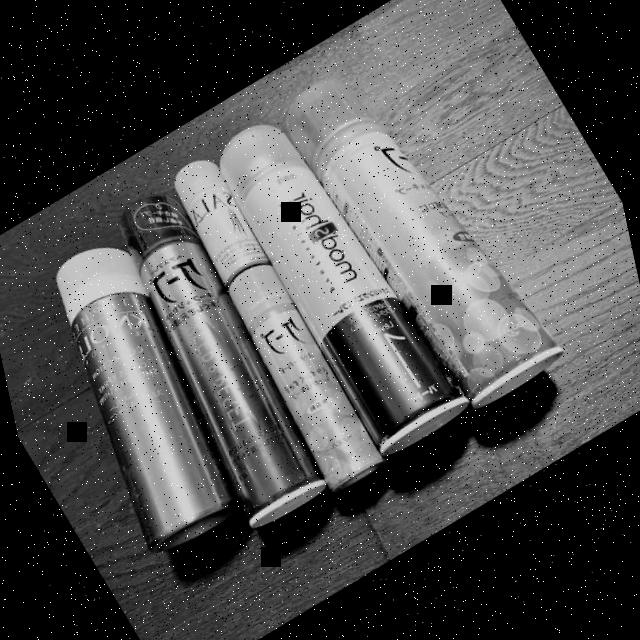chemical_spray_can: (285, 77, 562, 407), (217, 123, 468, 454), (116, 193, 324, 527), (53, 246, 237, 550), (226, 263, 385, 491), (172, 158, 267, 285)
